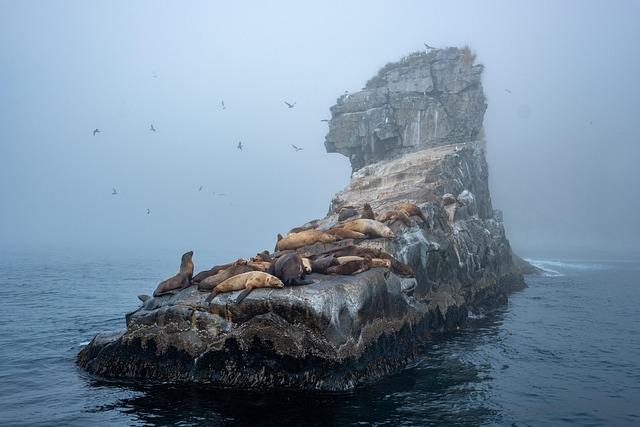Non_Gorille: (87, 53, 546, 389)
